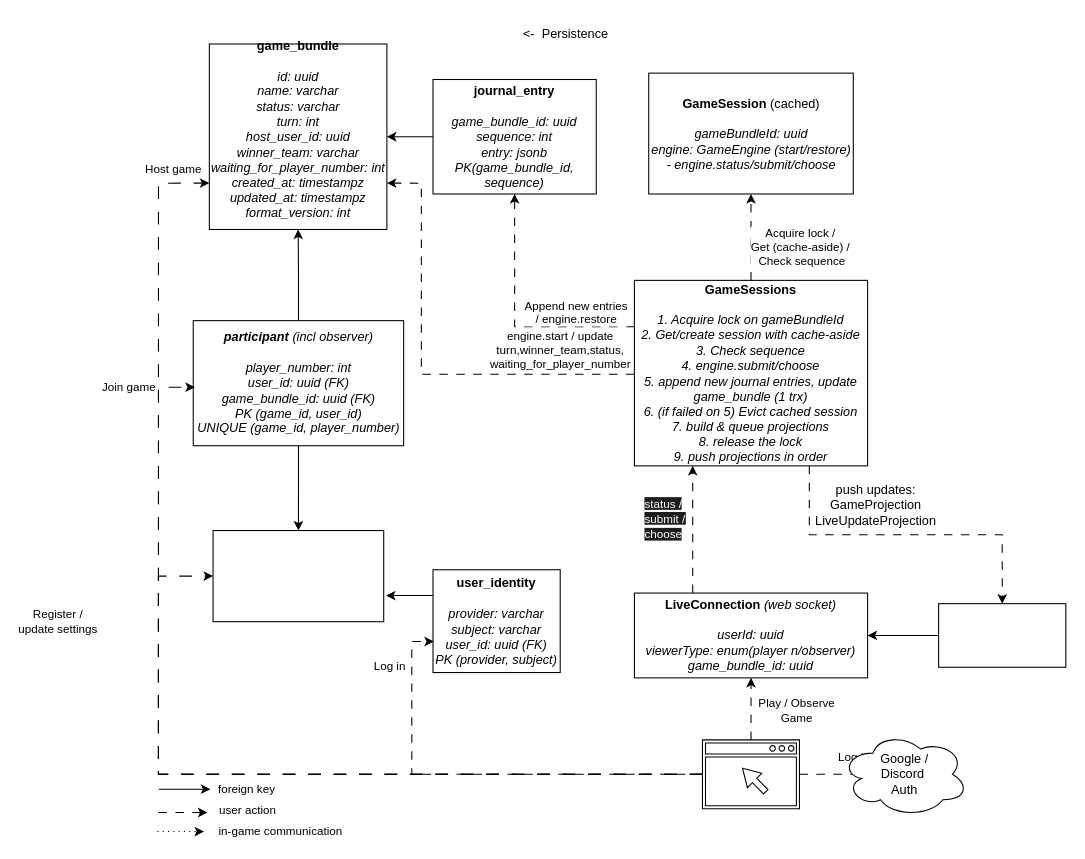
The diagram is 1085 pixels wide and 859 high, and some of its shapes have lost their labels. Each missing label, with the centre of its shape:
app_user id: uuid name: varchar settings: jsonb: the point at 298,575
ConnectionPool gameBundleId -> LiveConnection[]: the point at 1002,635
user browser: the point at 750,774
